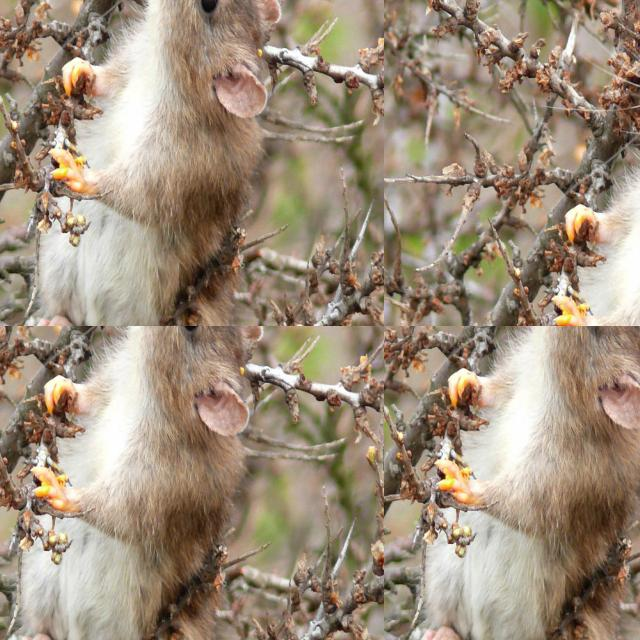rat: (419, 326, 640, 640)
